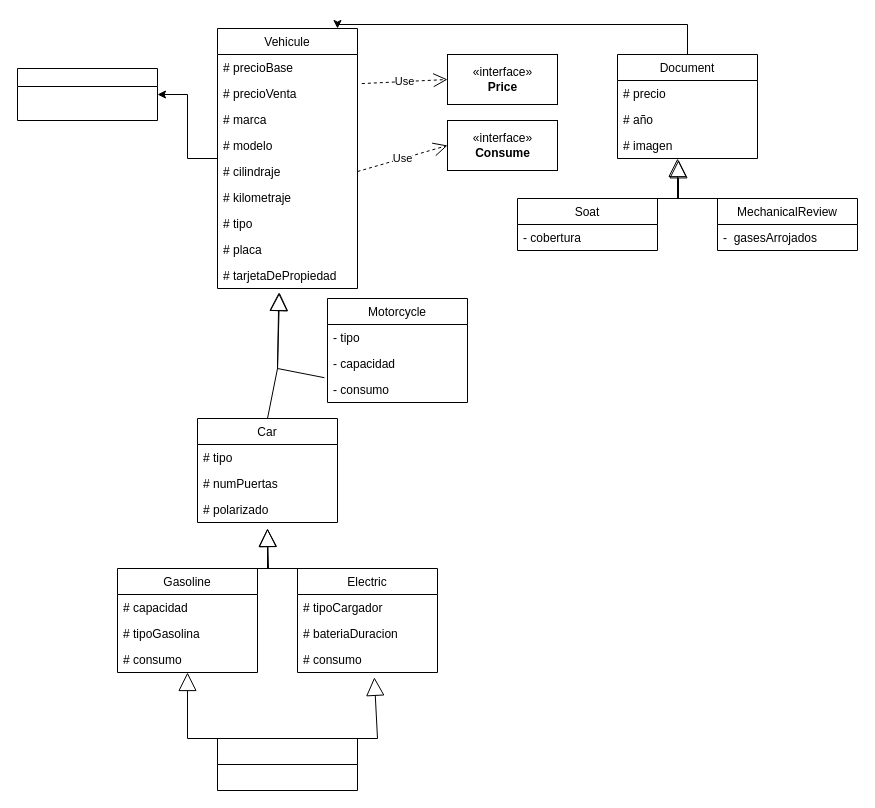
This 875x808 diagram has some shape labels left out. The centre of each missing label's shape, as x and y in pixels:
"Concesionario" belongs at point 87,94.
"Hybrid" belongs at point 287,764.
